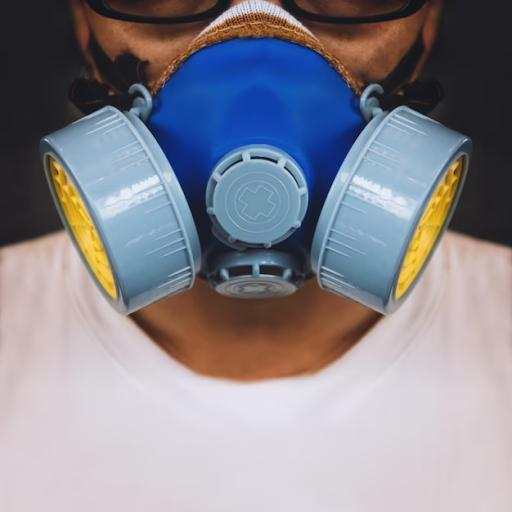mask: (36, 40, 479, 332)
